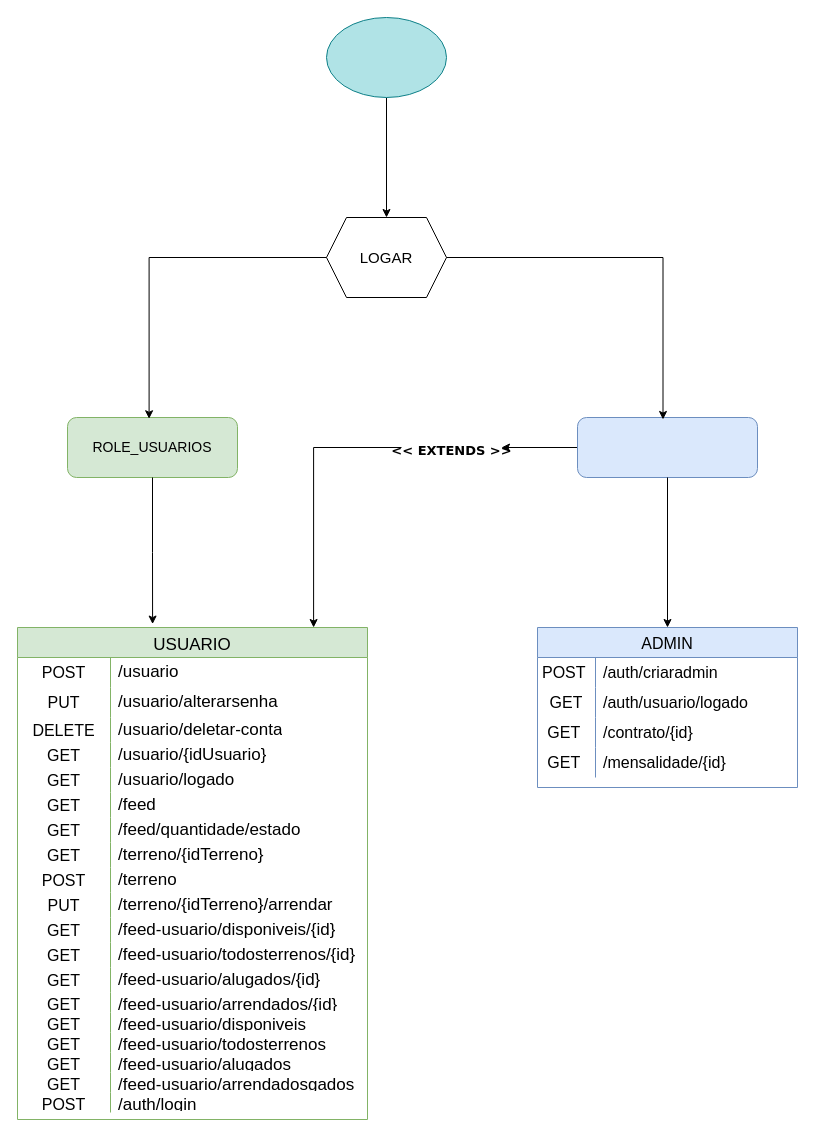
This 815x1137 diagram has some shape labels left out. The shapes that lost their labels are listed below. From the top down, each one's box as (x1, y1, x2, y2) in pixels, then its label:
(326, 16, 446, 98): PUBLIC
(576, 416, 758, 478): ROLE_ADMIN
